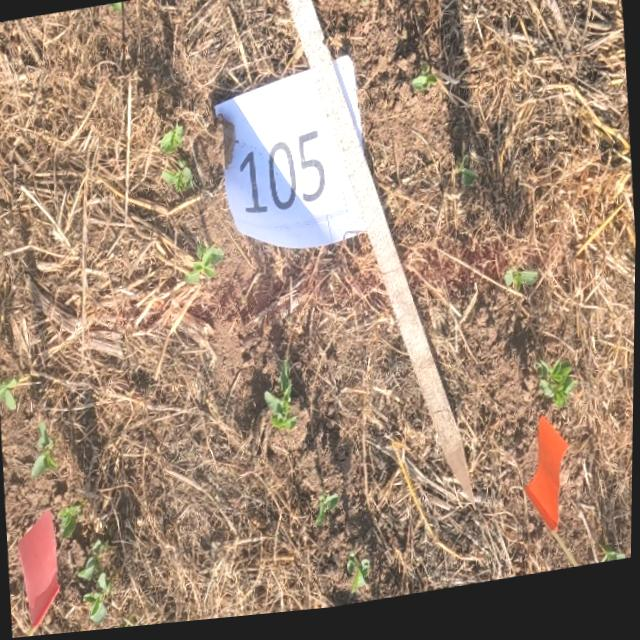soy_plant: (80, 541, 113, 626), (159, 129, 194, 197), (266, 365, 297, 435), (537, 371, 578, 418), (186, 246, 224, 288), (85, 574, 113, 626), (32, 423, 58, 478), (59, 503, 85, 540), (349, 558, 371, 600), (504, 279, 538, 300), (456, 164, 477, 195), (317, 500, 338, 530), (0, 380, 18, 410), (411, 80, 437, 99), (360, 0, 374, 7)
